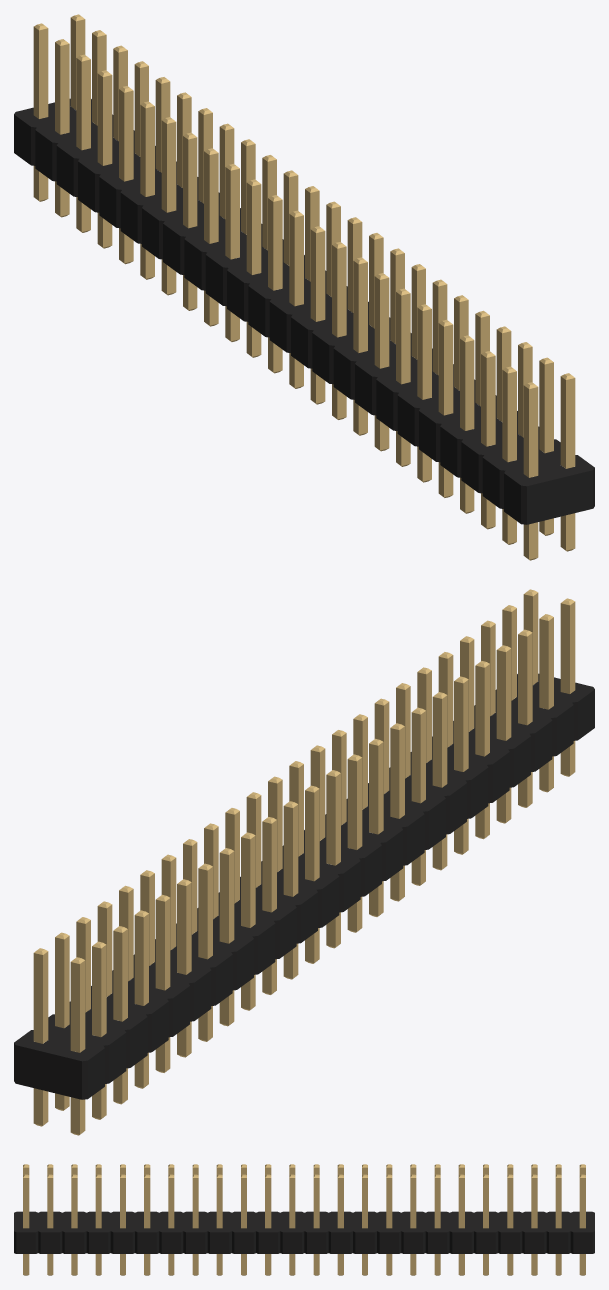
The model's file is kc-pinheader_2x24_p2.54mm_vertical.glb.
3 views of the same model, one above another, from view 1: azimuth 30°, elevation 25°; view 2: azimuth 150°, elevation 25°; view 3: azimuth 270°, elevation 25° (orthographic). The views are drawn at different scales.
Visible parts, largest first — view 1: 0.75_0.5_0.25_0.9, 0_0_0_0; view 2: 0.75_0.5_0.25_0.9, 0_0_0_0; view 3: 0_0_0_0, 0.75_0.5_0.25_0.9.
Boxes of the visible parts, left/top/right/bottom form: 0.75_0.5_0.25_0.9: left=33, top=14, right=575, bottom=560; 0_0_0_0: left=14, top=98, right=594, bottom=524; 0.75_0.5_0.25_0.9: left=33, top=589, right=575, bottom=1135; 0_0_0_0: left=14, top=673, right=594, bottom=1099; 0_0_0_0: left=14, top=1211, right=594, bottom=1253; 0.75_0.5_0.25_0.9: left=23, top=1164, right=585, bottom=1275.
Size of the model in its own units: 0.5083 by 1.15 by 6.1.
